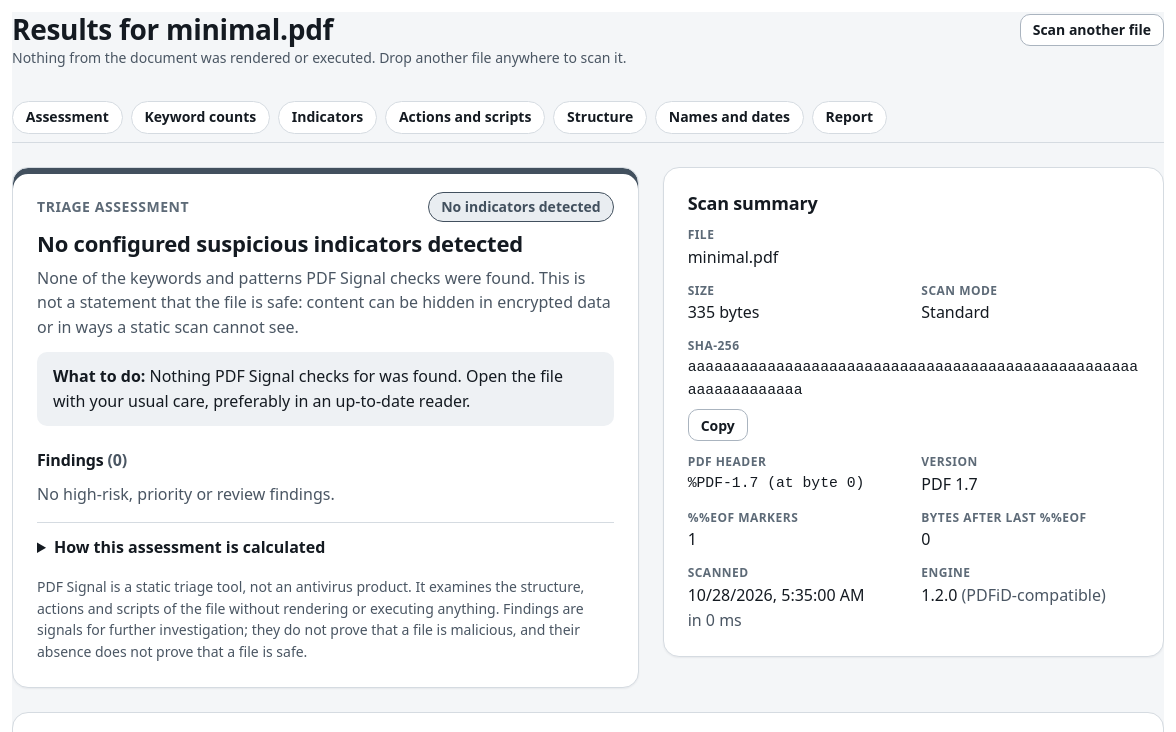
Test: threat highlighting › copies the SHA-256 hash
Click the button with aria-label "Copy SHA-256 hash": (718, 426) [688,410,748,442]
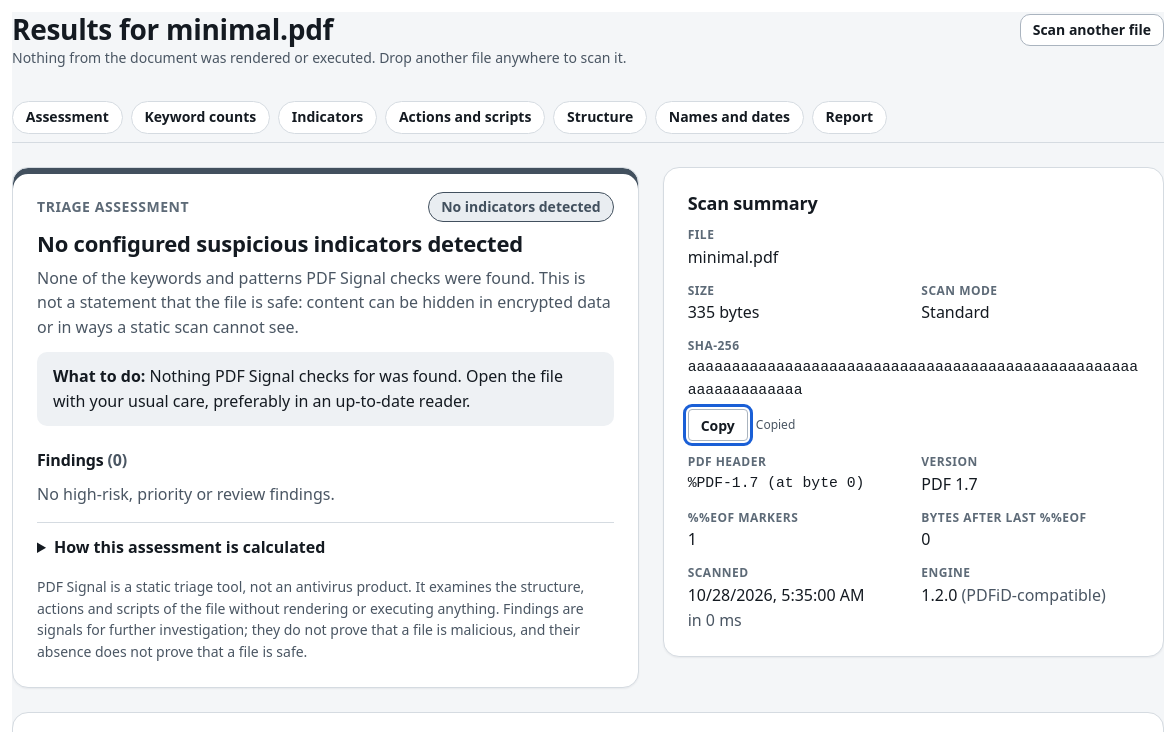
expect the text "Copied" is shown: met, box [756,416,795,435]
